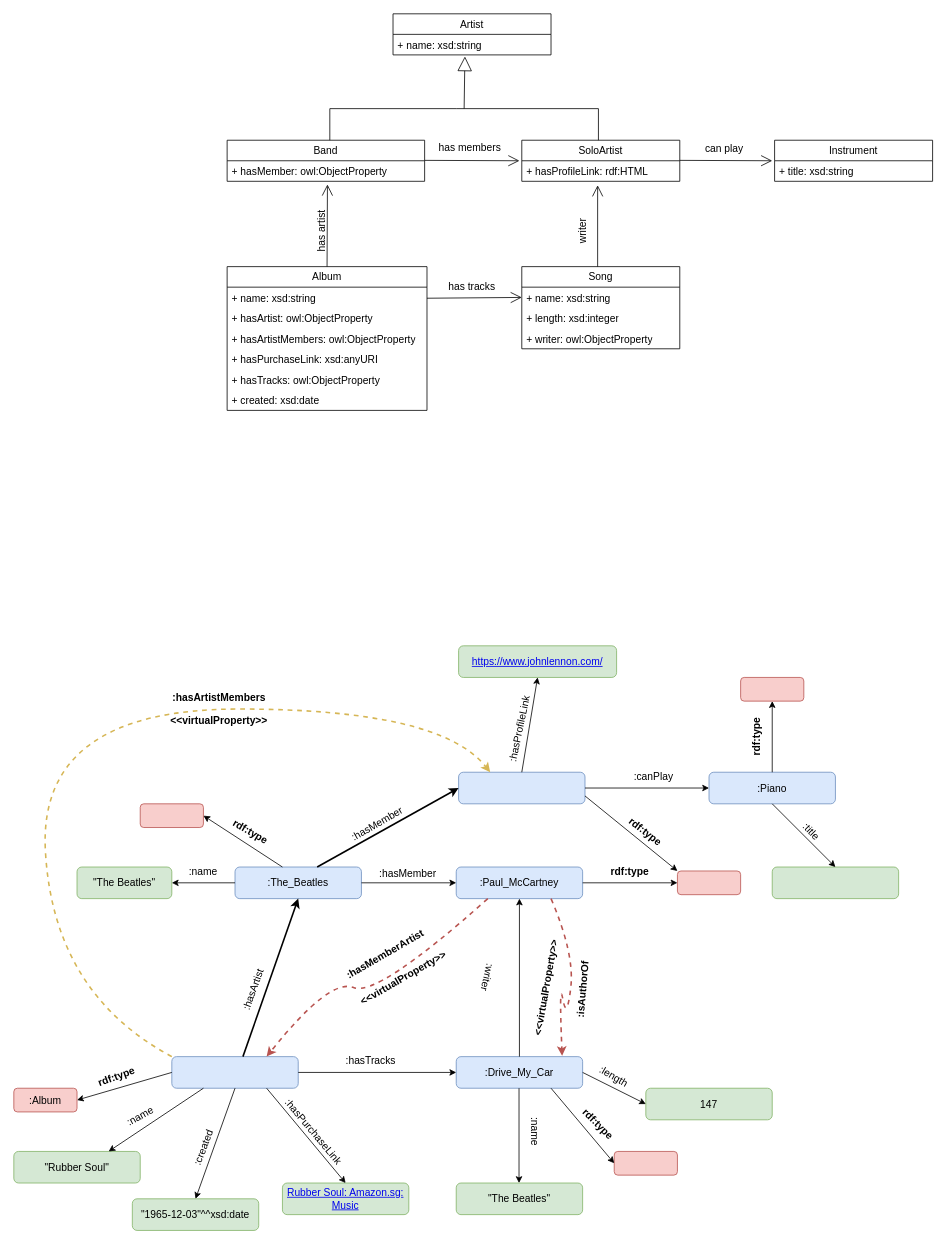
Some shapes in this 946 by 1244 pixel diagram are drawn without their labels. Each missing label, with the centre of its shape:
"Piano": pixel 835 882
:Band: pixel 171 815
:Instrument: pixel 772 689
:John_Lennon: pixel 521 787
:Rubber_Soul: pixel 234 1072
:SoloArtist: pixel 709 882
:Song: pixel 645 1163
